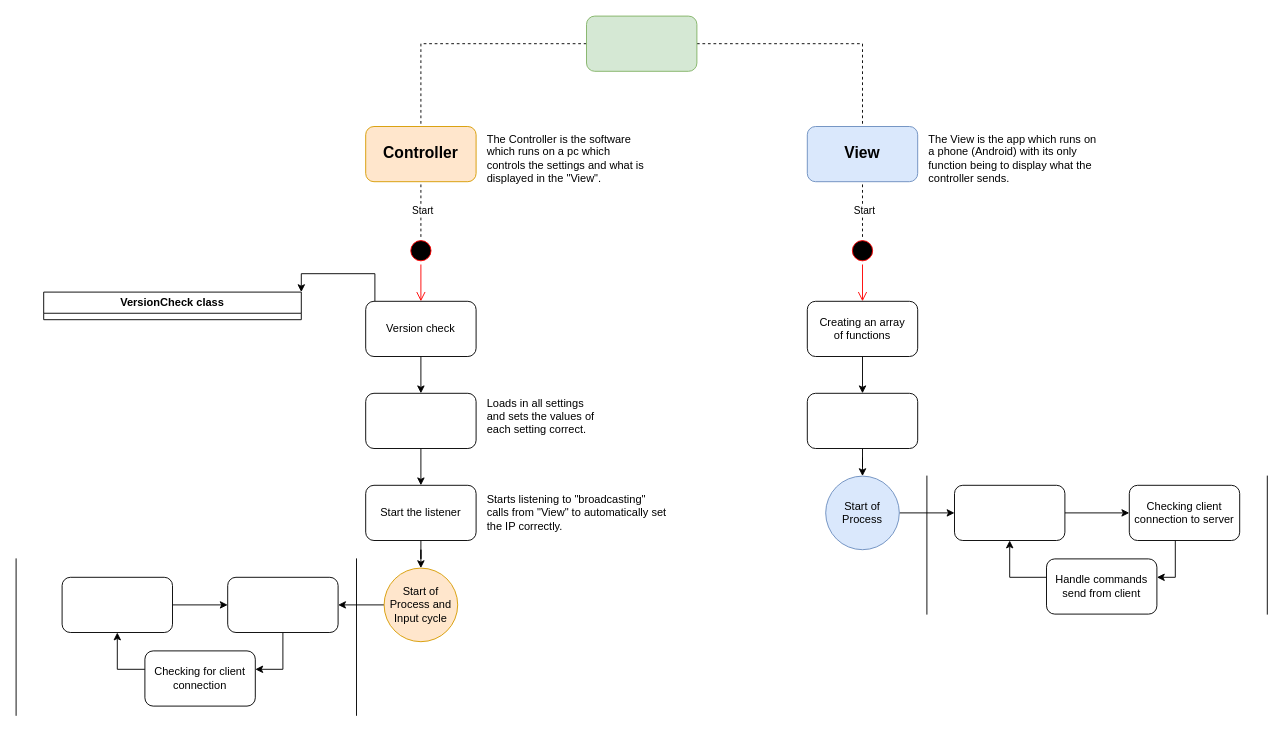
Some shapes in this 1283 by 731 pixel diagram are drawn without their labels. Here are the shapes that lost their labels. From the top down, the box of each, then its label:
(586, 15, 697, 71): Teledot
(365, 392, 476, 448): Load settings
(806, 392, 918, 448): Starting server and broadcaster
(954, 484, 1065, 540): Handle scroll speed if play was pressed
(61, 576, 172, 632): Checking for listener
(227, 576, 338, 632): Getting input commands and handling them
